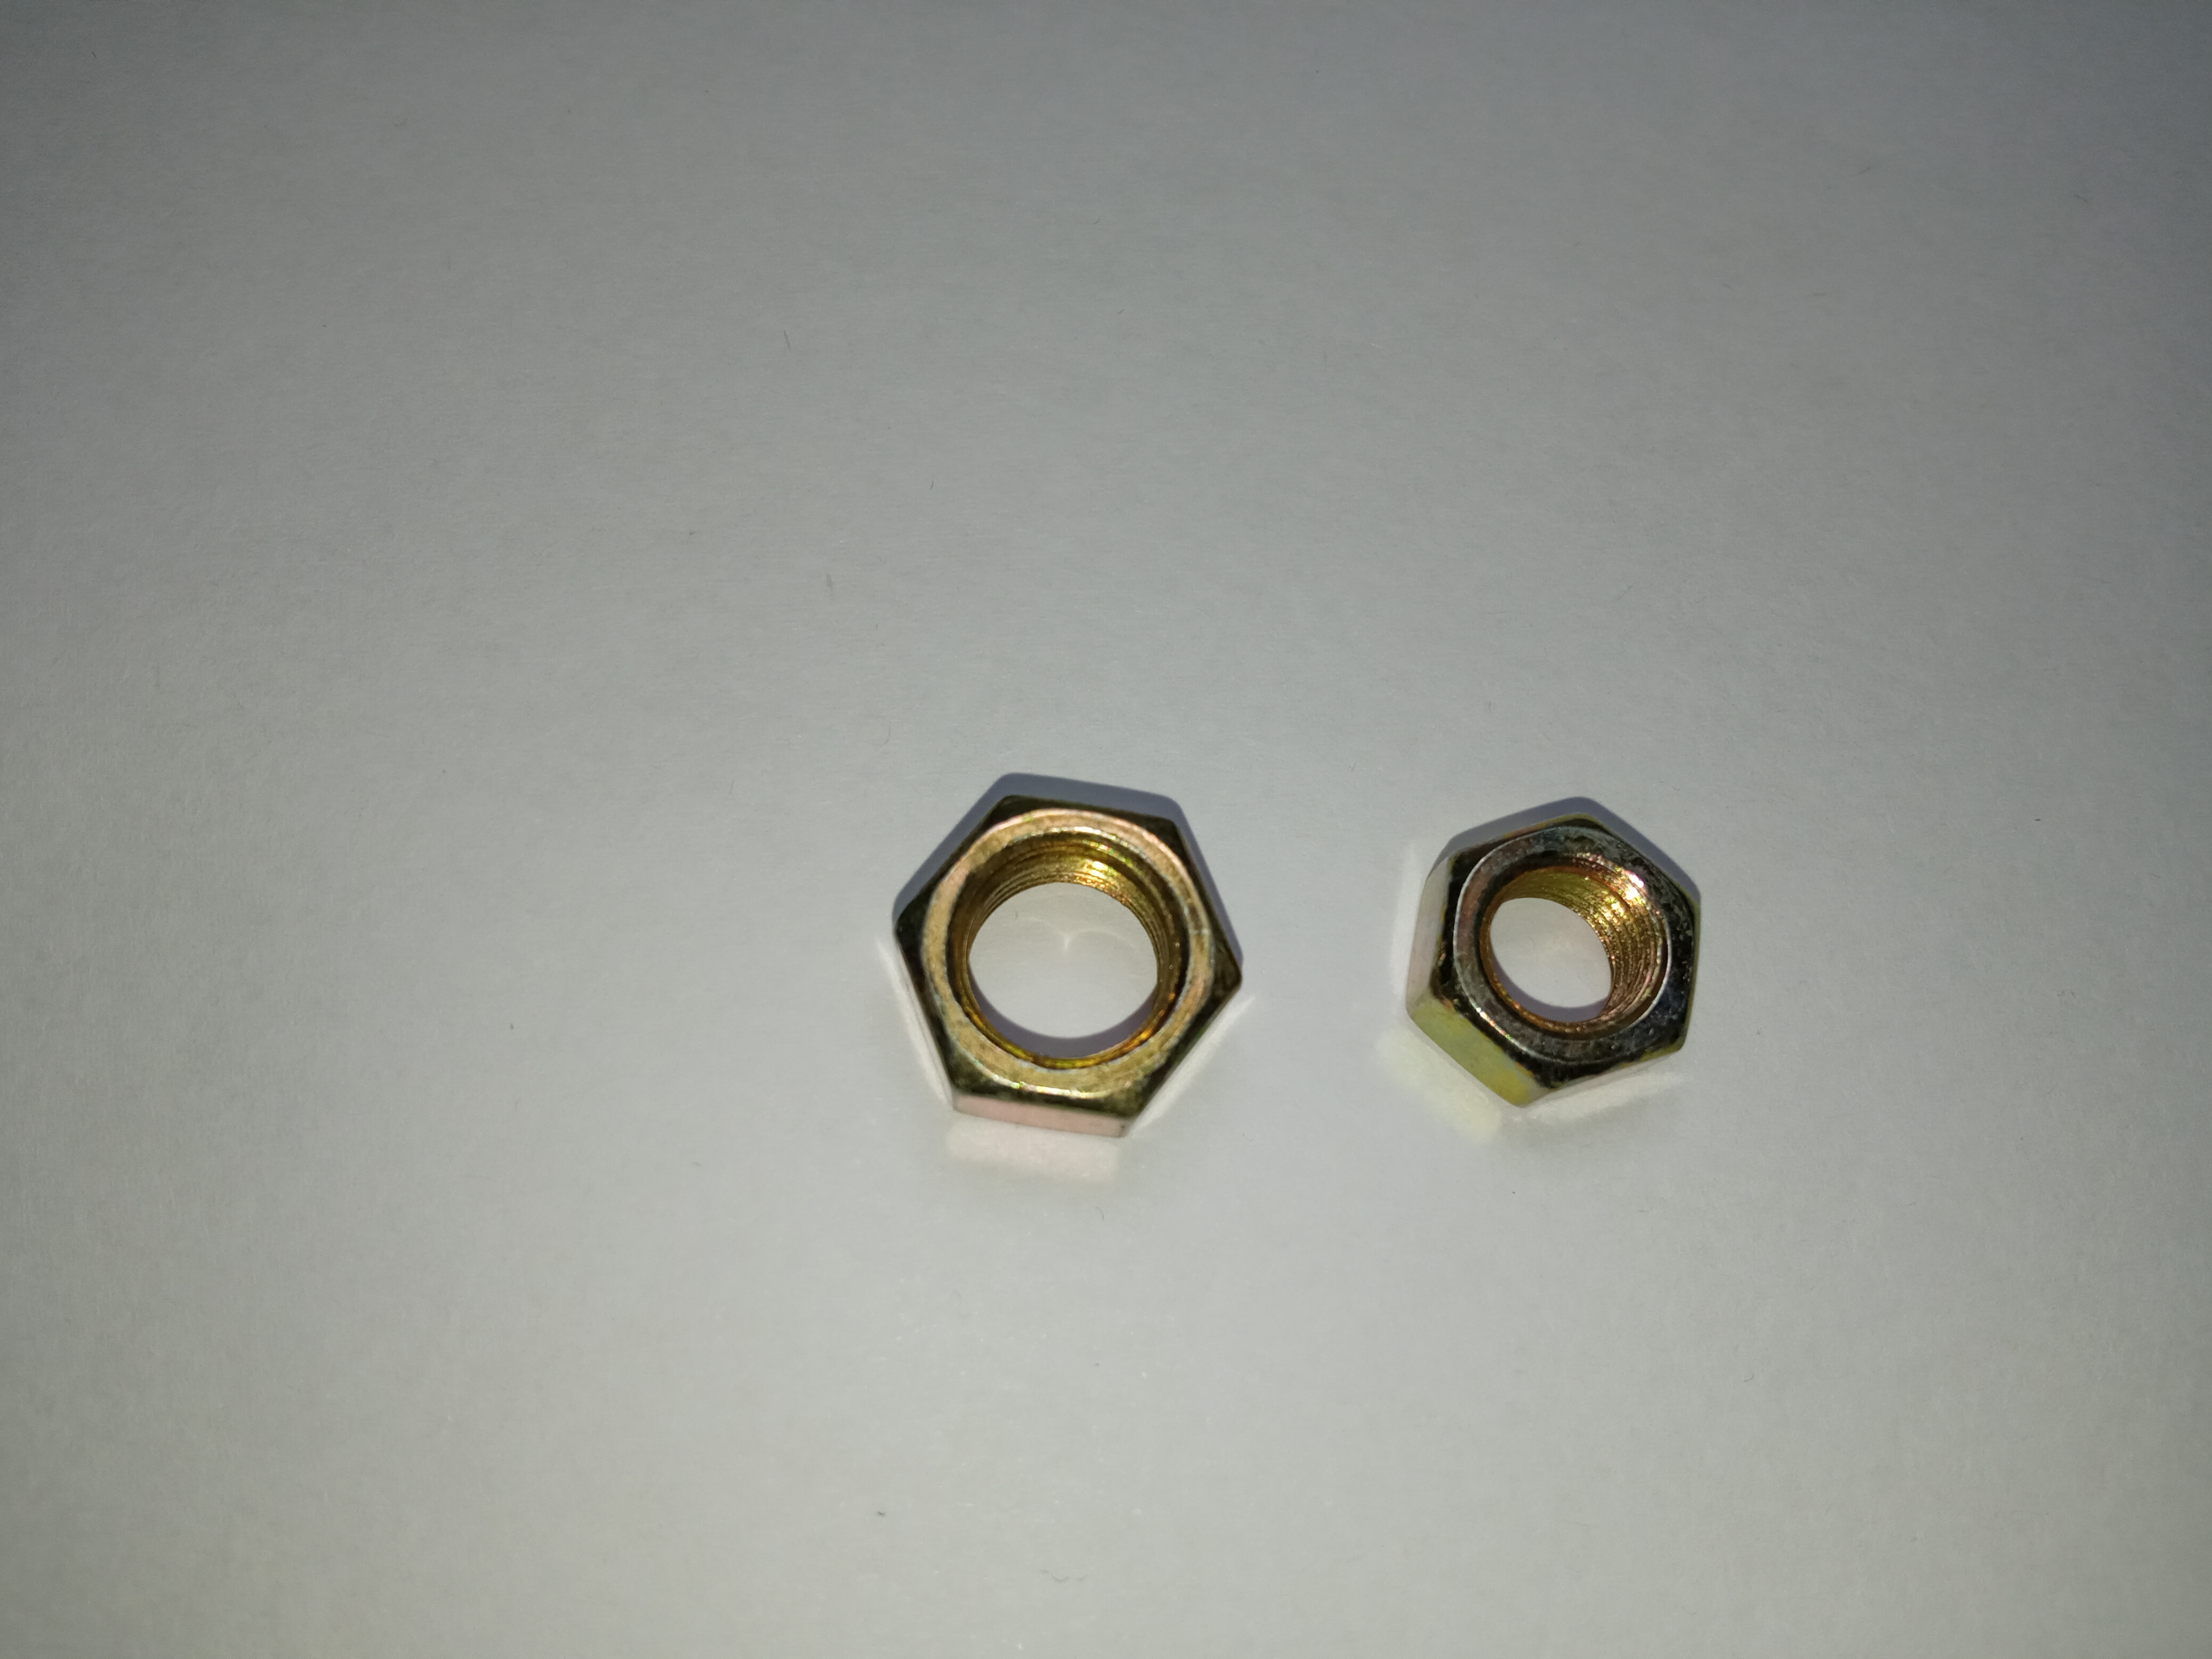m10: (881, 784, 1254, 1131)
m8: (1442, 819, 1693, 1087)
